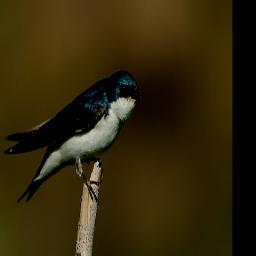Swallow: (1, 69, 142, 211)
